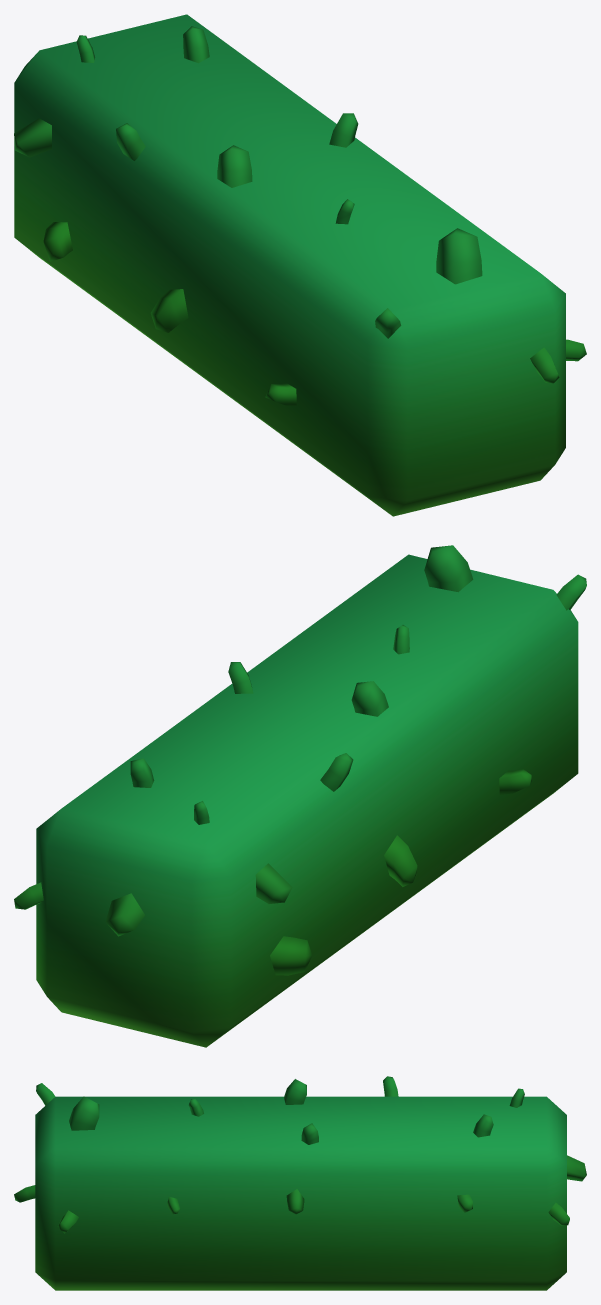
File: Bush_1_A_1.glb
3 renders of one model, top to bottom at view 1: azimuth 30°, elevation 25°; view 2: azimuth 150°, elevation 25°; view 3: azimuth 270°, elevation 25°, orthographic. The views are drawn at different scales.
Parts seen in each view (by area): view 1: Bush_1_A_1; view 2: Bush_1_A_1; view 3: Bush_1_A_1.
Boxes of the visible parts, x1=… form: Bush_1_A_1: x1=14, y1=14, x2=586, y2=516; Bush_1_A_1: x1=14, y1=545, x2=586, y2=1047; Bush_1_A_1: x1=14, y1=1076, x2=586, y2=1290.
Size of the model in its own units: 0.7936 by 0.7397 by 2.23.
Materials: 1 (1 with a texture image).
